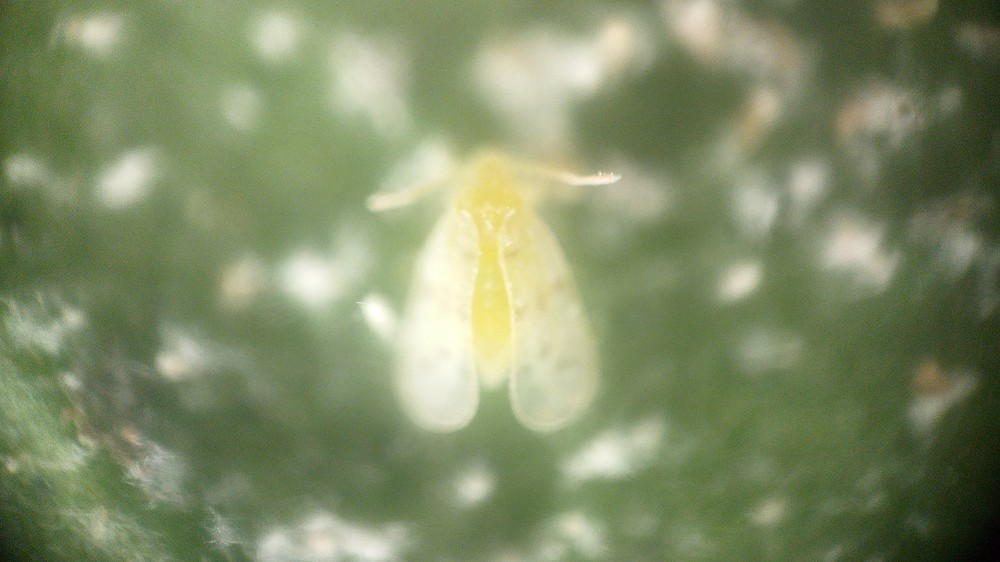Mosca Blanca: (342, 117, 655, 453)
